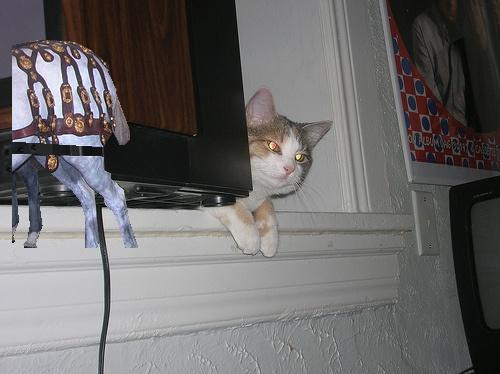tampered: (13, 40, 138, 248)
